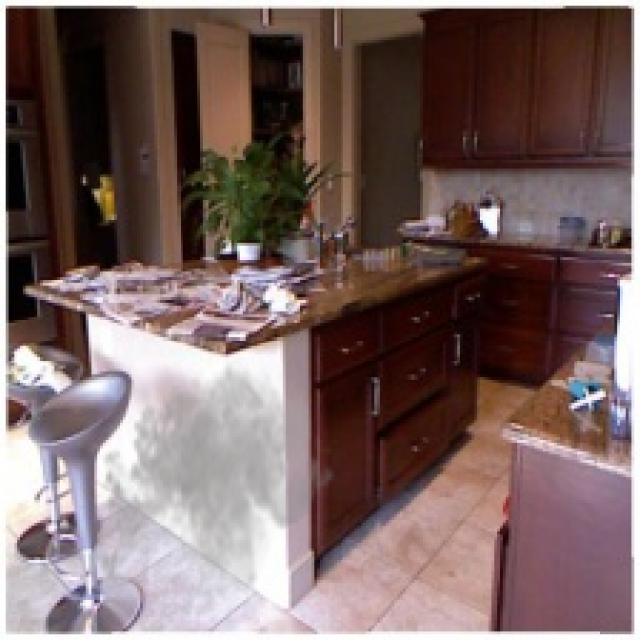Smoke: (89, 354, 338, 620)
